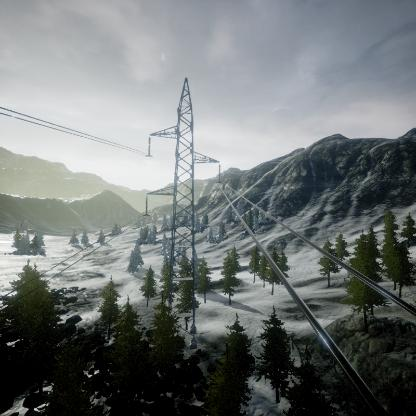tower: (143, 74, 224, 350)
